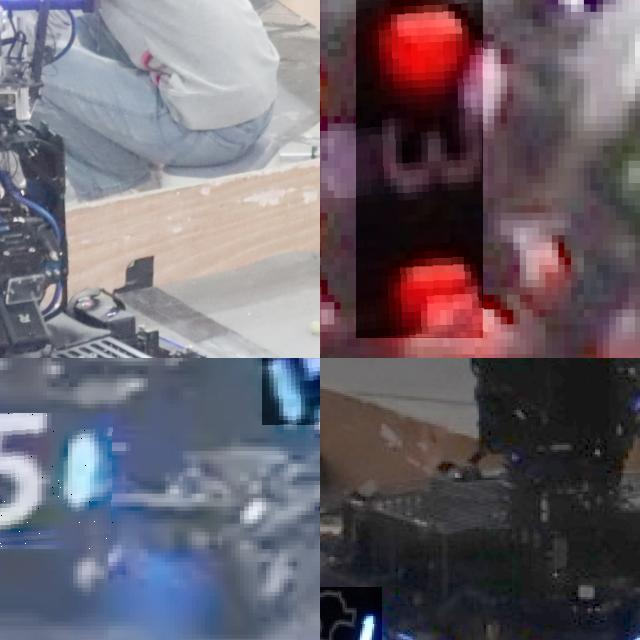B5: (0, 412, 112, 549), (261, 358, 320, 425)
Bs: (320, 587, 381, 640)
R3: (356, 0, 484, 339)
